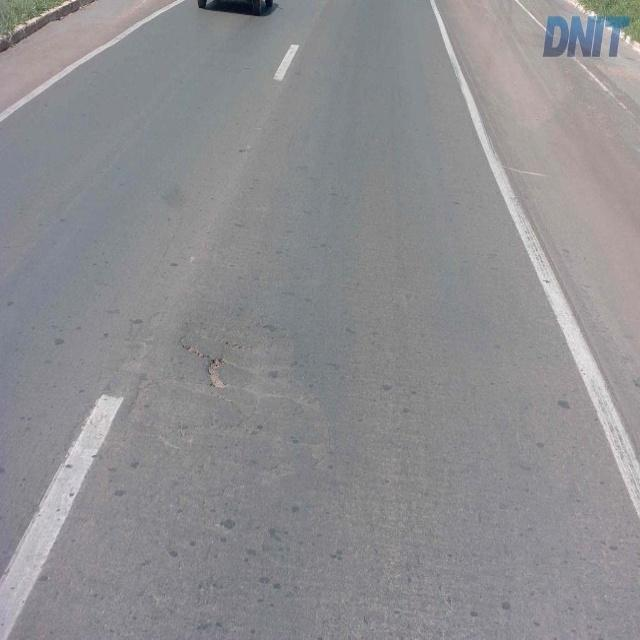pothole: (177, 336, 236, 396)
